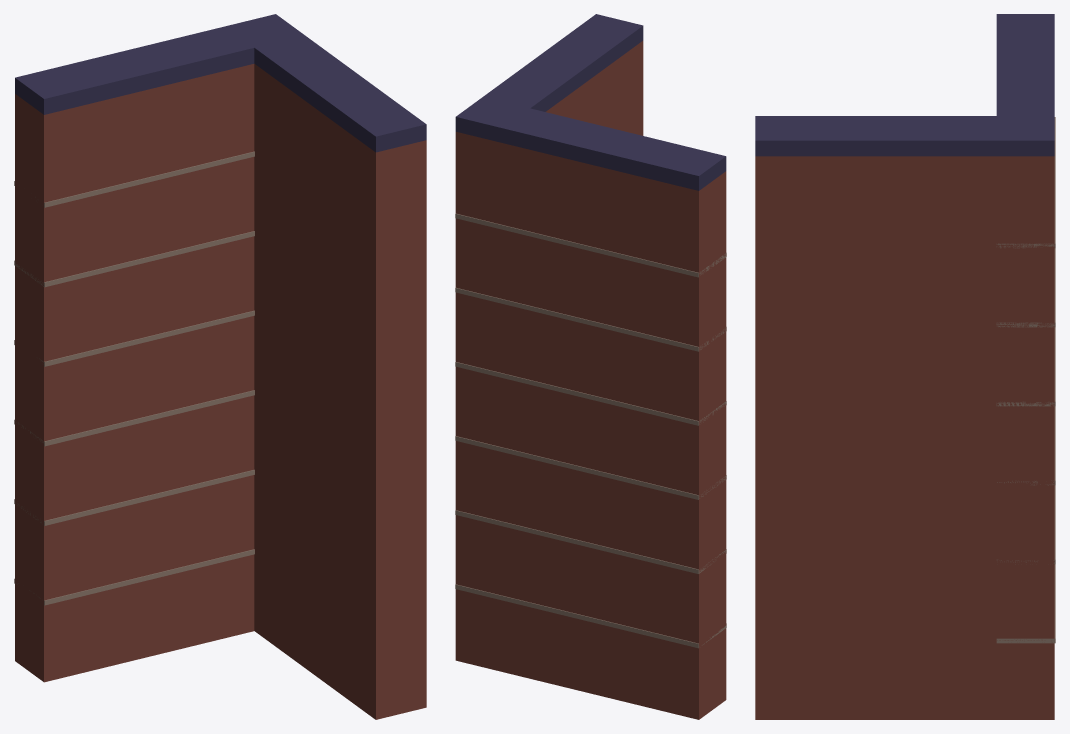
The model's file is raum_wand_ecke.glb.
3 renders of one model, left to right at view 1: azimuth 30°, elevation 25°; view 2: azimuth 150°, elevation 25°; view 3: azimuth 270°, elevation 25°, orthographic. The views are drawn at different scales.
Parts seen in each view (by area): view 1: raum_wand_ecke; view 2: raum_wand_ecke; view 3: raum_wand_ecke.
Boxes of the visible parts, x1=… form: raum_wand_ecke: x1=14, y1=14, x2=426, y2=719; raum_wand_ecke: x1=455, y1=14, x2=726, y2=719; raum_wand_ecke: x1=755, y1=14, x2=1055, y2=719.
Size of the model in its own units: 1.03 by 2.2 by 1.03.
